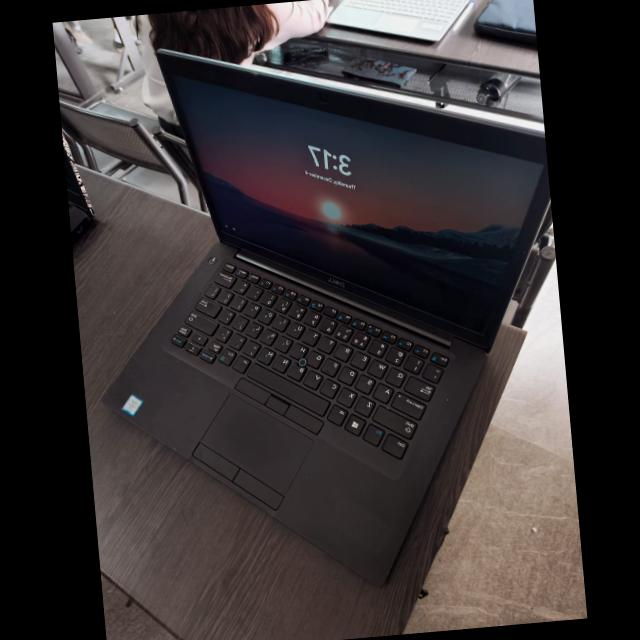laptop: (68, 12, 580, 594)
